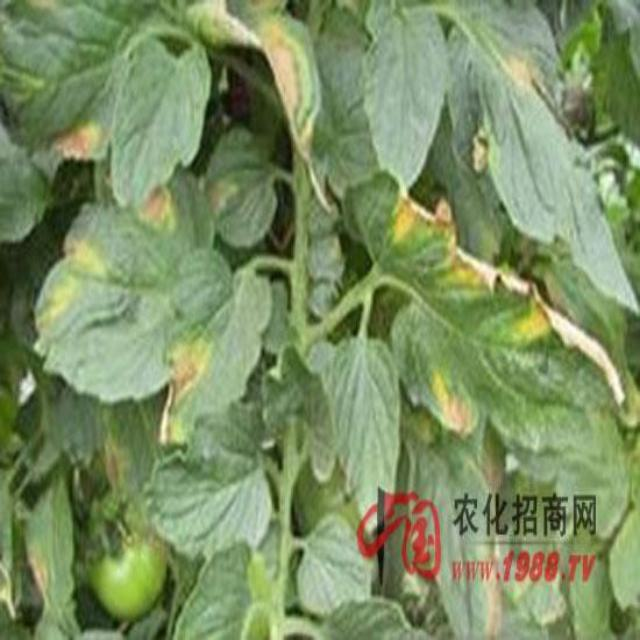Leaf_Mold: (389, 192, 628, 409), (239, 17, 312, 160), (150, 334, 213, 449), (426, 364, 477, 442), (46, 116, 107, 166), (135, 183, 179, 233)
